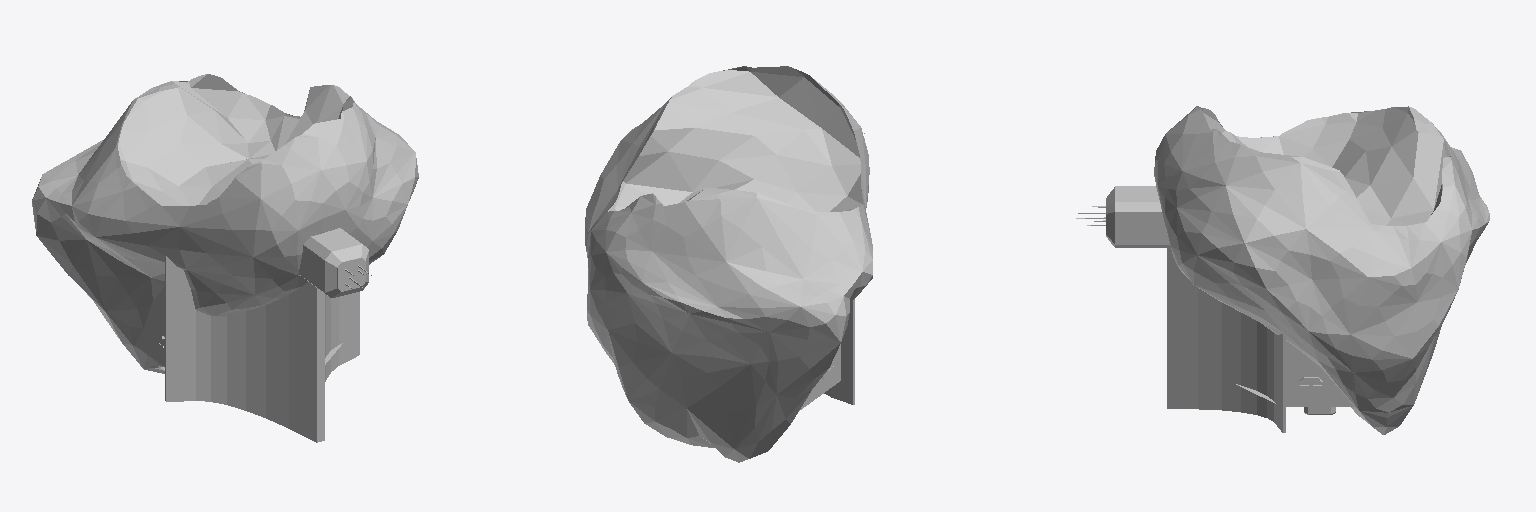
Rendered from church asteroid.obj.
3 views of the same model, side by side, from view 1: azimuth 30°, elevation 25°; view 2: azimuth 150°, elevation 25°; view 3: azimuth 270°, elevation 25° (orthographic).
Visible parts, largest first — view 1: Box01; view 2: Box01; view 3: Box01.
Part boxes in pixels (left/top/right/bottom): Box01: left=32, top=74, right=418, bottom=442; Box01: left=585, top=66, right=872, bottom=462; Box01: left=1076, top=106, right=1489, bottom=434.
Size of the model in its own units: 182 by 183 by 222.